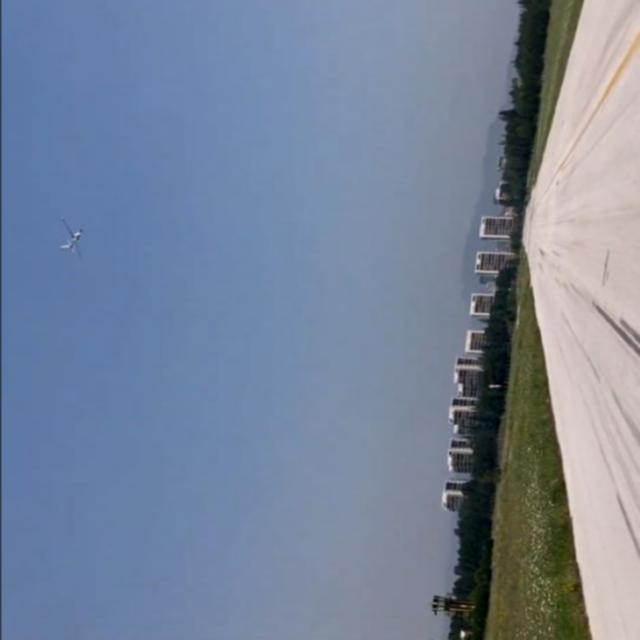plane: (57, 218, 84, 260)
